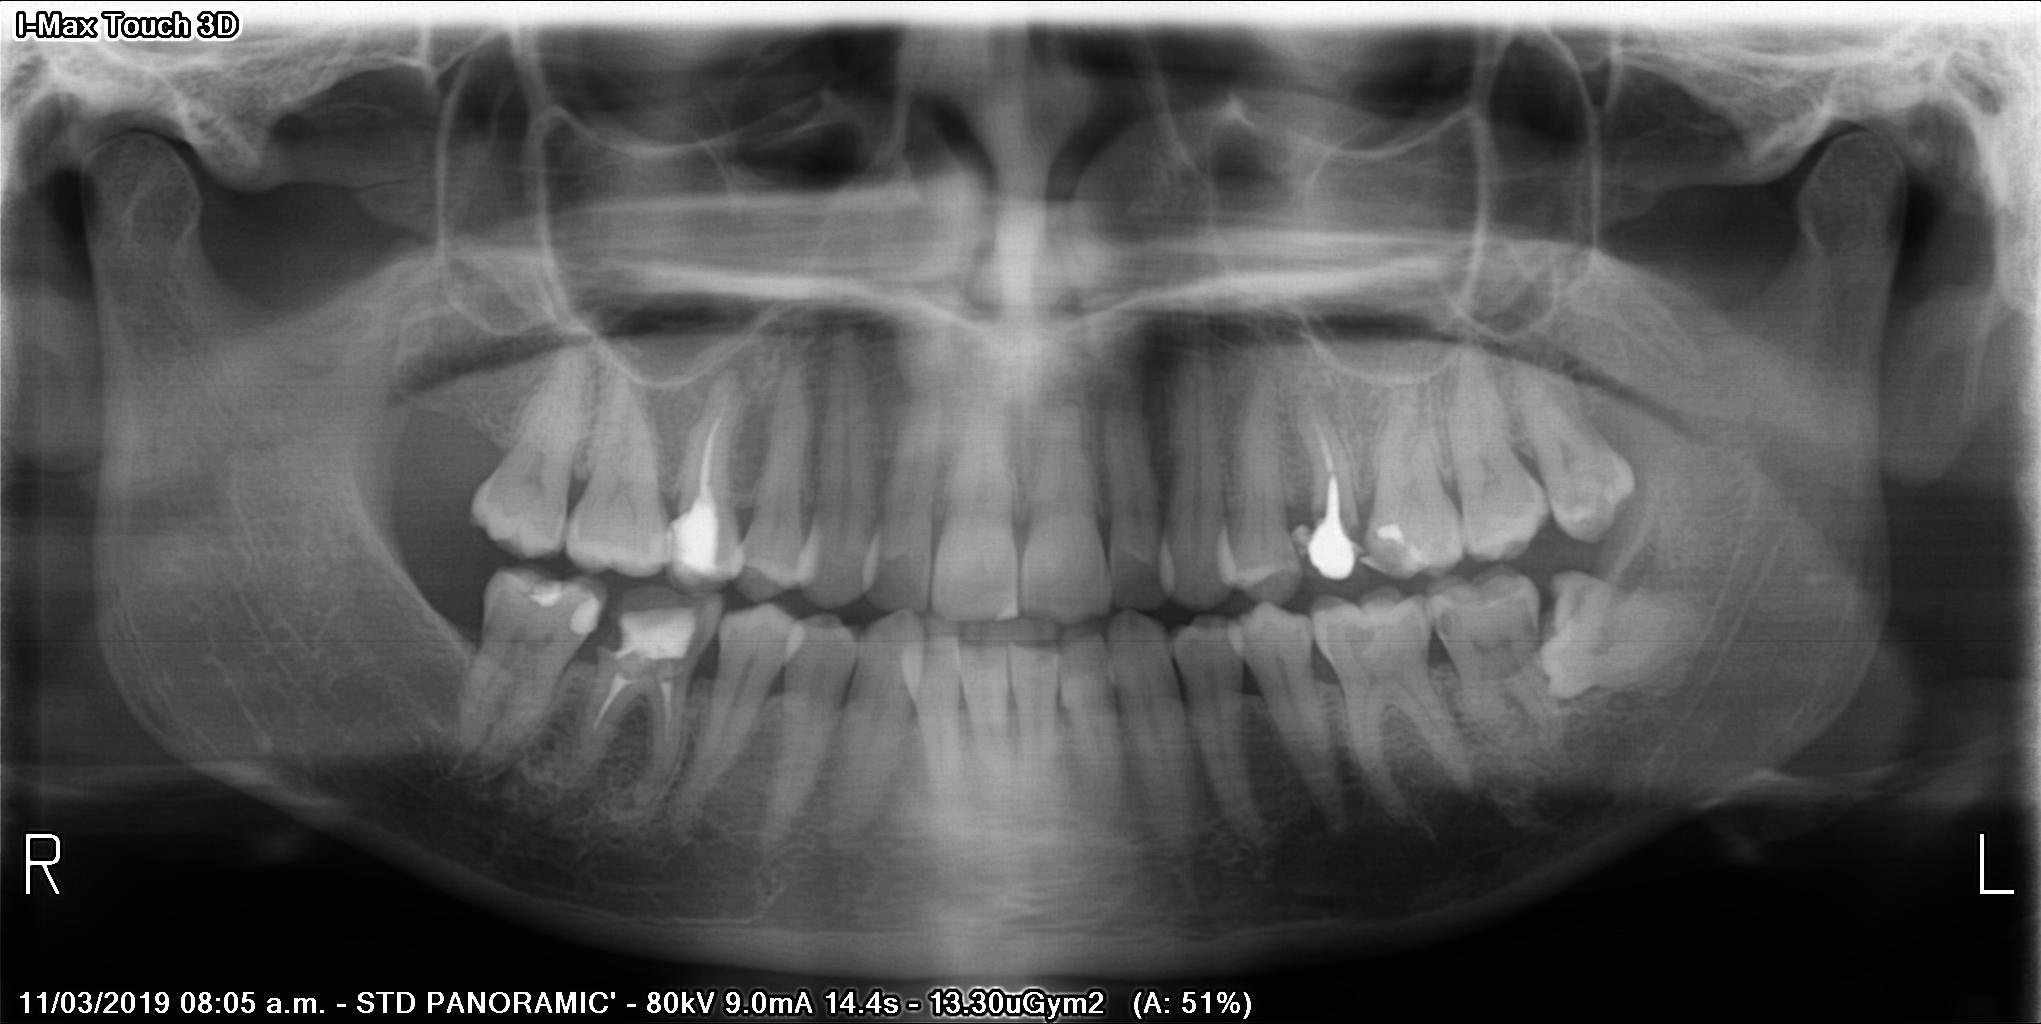Çürük: (624, 602, 696, 665), (672, 512, 720, 571), (1310, 524, 1358, 580), (528, 580, 565, 610), (576, 594, 602, 637), (1379, 517, 1409, 546)
Çürük Bölgesi: (1352, 526, 1406, 589), (1515, 602, 1557, 656), (594, 607, 632, 657), (1341, 615, 1383, 656), (1436, 613, 1459, 643)
